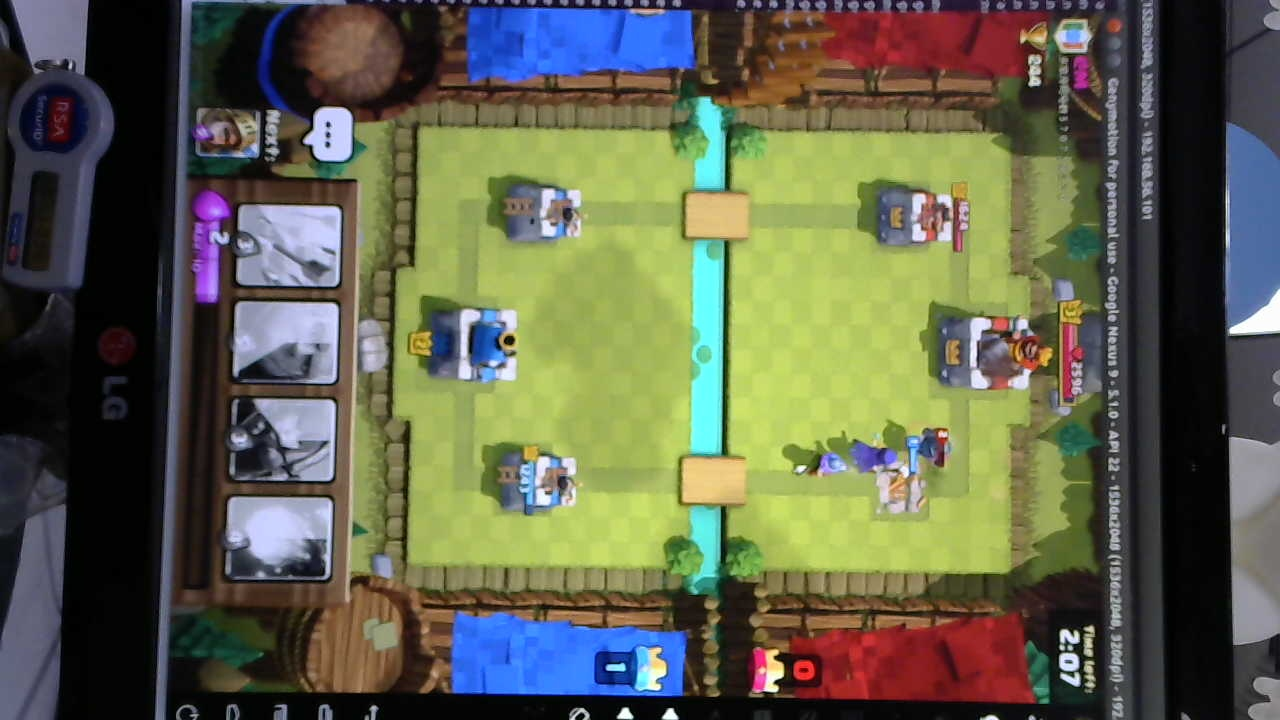arena: (506, 449, 585, 514), (509, 182, 587, 245)
darena: (867, 456, 930, 520)
earena: (875, 185, 958, 251)
eking: (940, 311, 1041, 391)
king: (426, 302, 521, 388)
minipekka: (917, 420, 955, 460)
musketeer: (802, 447, 851, 478)
witch: (849, 435, 911, 475)
